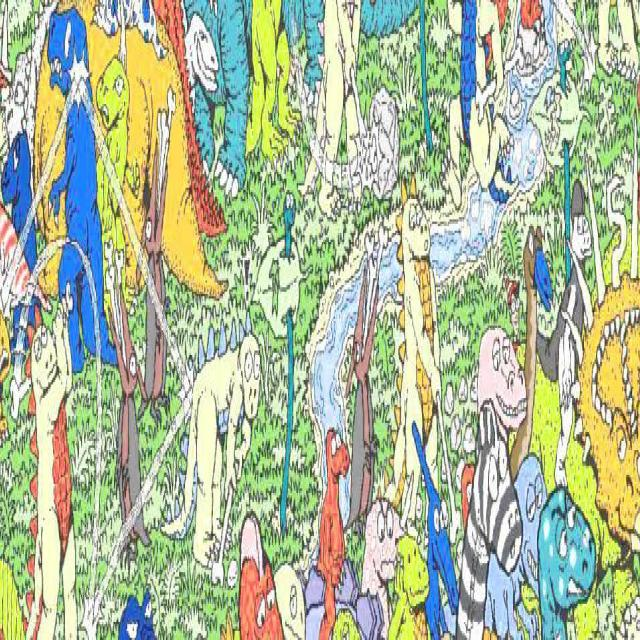waldo: (504, 276, 521, 339)
